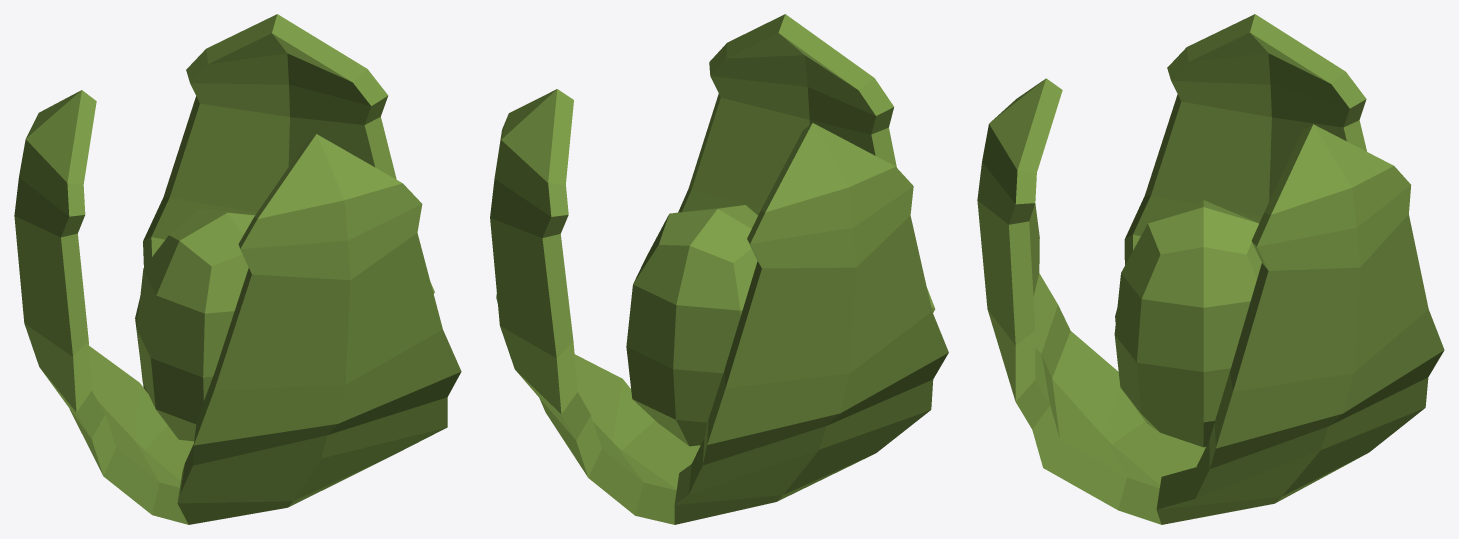
File: crop-cell-lettuce-young.gltf
The picture shows the model from 3 angles, left to right: view 1: azimuth 30°, elevation 25°; view 2: azimuth 150°, elevation 25°; view 3: azimuth 270°, elevation 25°; orthographic projection.
Parts seen in each view (by area): view 1: crop-cell-lettuce-young; view 2: crop-cell-lettuce-young; view 3: crop-cell-lettuce-young.
Part boxes in pixels (box(x1,y1,x2,y2)): crop-cell-lettuce-young: box(14, 14, 461, 524); crop-cell-lettuce-young: box(490, 14, 948, 524); crop-cell-lettuce-young: box(977, 14, 1444, 524).
Size of the model in its own units: 0.3333 by 0.3198 by 0.3318.
